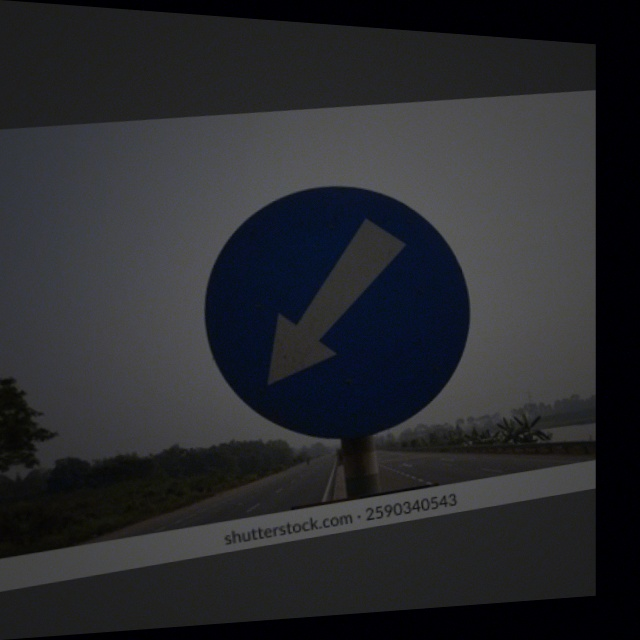Compulsory_Keep_Left: (191, 167, 481, 460)
